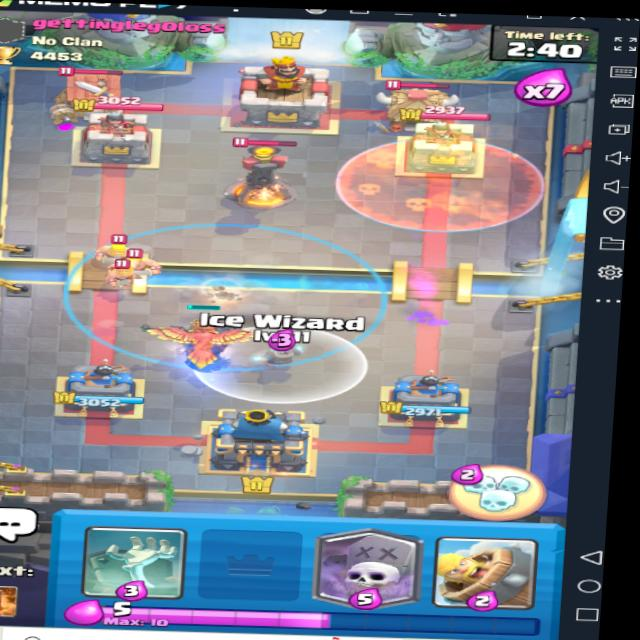barbarian: (97, 252, 146, 286), (111, 249, 156, 271), (92, 241, 130, 265)
barbarian-hut: (49, 63, 131, 127)
goblin-hut: (376, 75, 463, 132)
inferno-tower: (217, 135, 306, 208)
